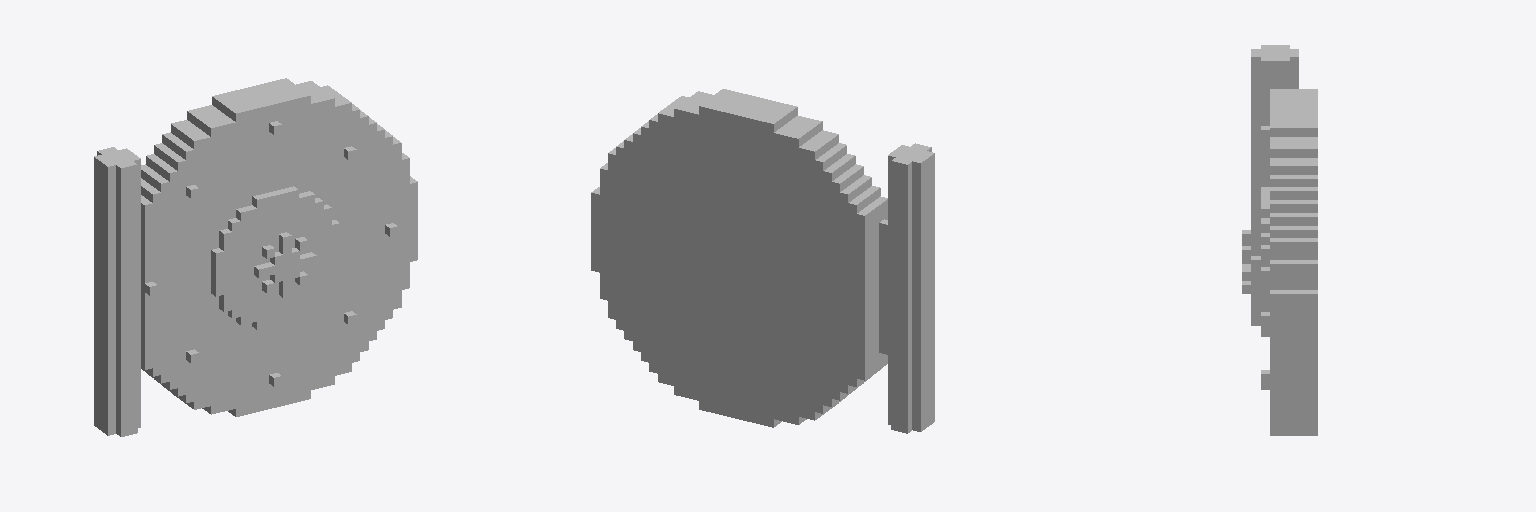
Rendered from Bab 5zna.obj.
3 renders of one model, left to right at view 1: azimuth 30°, elevation 25°; view 2: azimuth 150°, elevation 25°; view 3: azimuth 270°, elevation 25°, orthographic.
Visible parts, largest first — view 1: object 1; view 2: object 1; view 3: object 1.
Part boxes in pixels (x1,y1,x2,y2): object 1: (94,78,417,436); object 1: (591,89,934,433); object 1: (1242,45,1317,435).
Bounding box in the file's own units: 3.8 × 3.5 × 0.8.